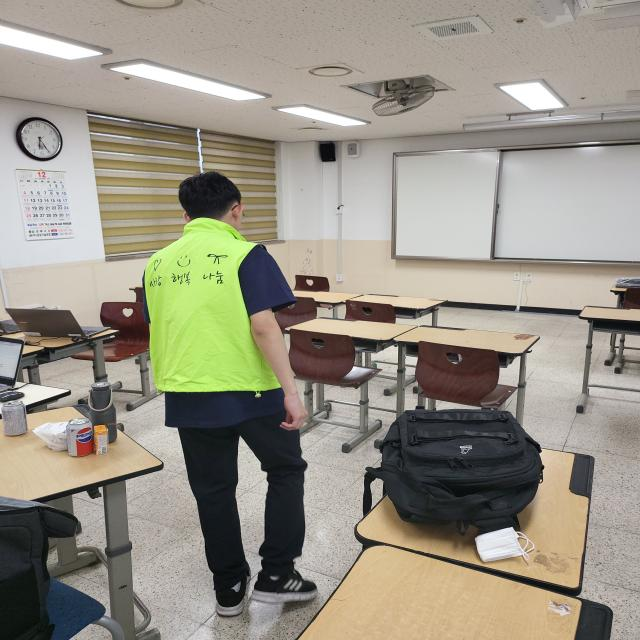weston_spy: (135, 207, 304, 410)
